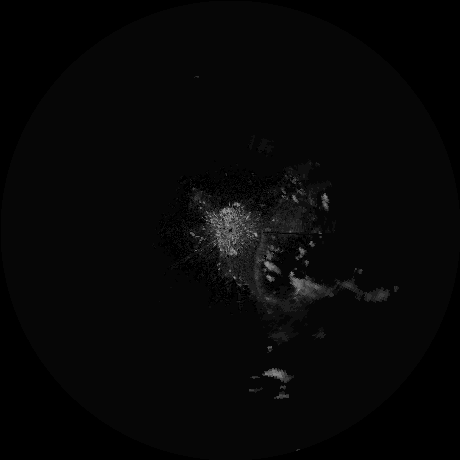frontgust: (252, 228, 267, 302)
